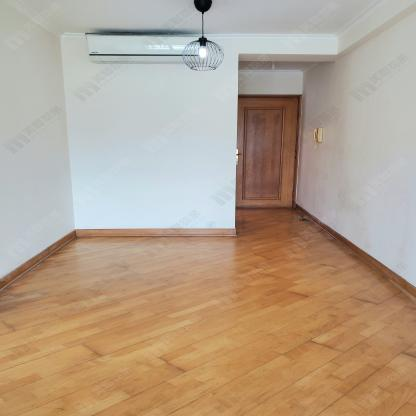AC: (85, 34, 205, 65)
